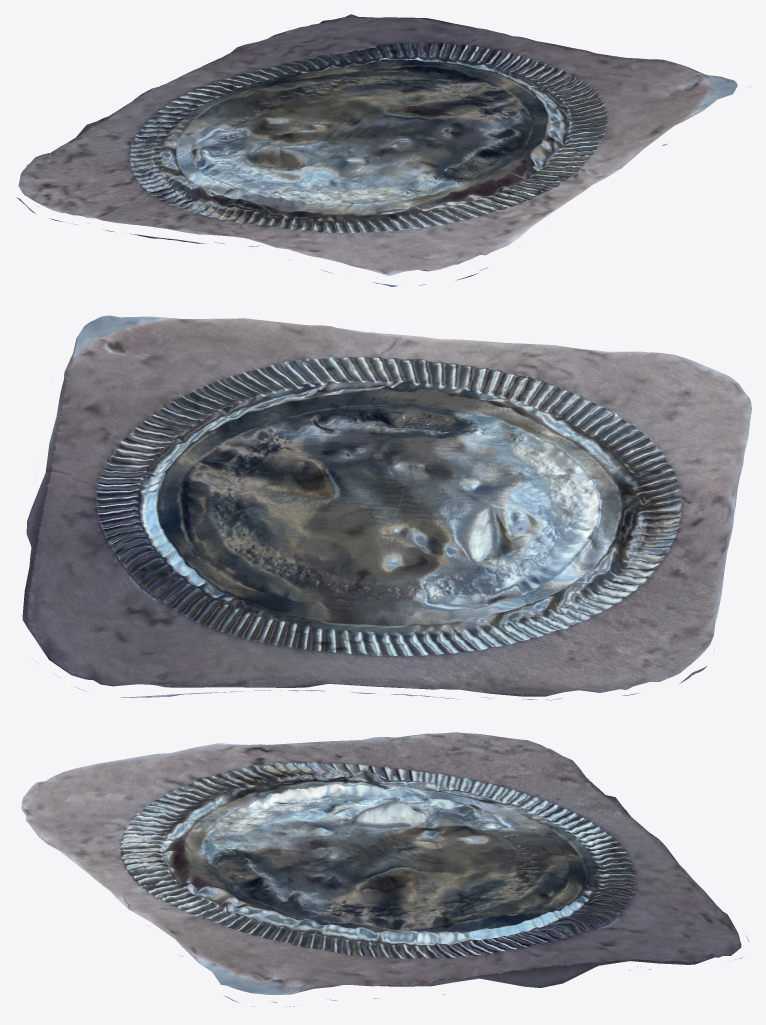
File: emla_plaster.glb
3 renders of one model, top to bottom at view 1: azimuth 30°, elevation 25°; view 2: azimuth 150°, elevation 25°; view 3: azimuth 270°, elevation 25°, orthographic. The views are drawn at different scales.
Visible parts, largest first — view 1: Mesh_0.003; view 2: Mesh_0.003; view 3: Mesh_0.003.
Part boxes in pixels (<box>): Mesh_0.003: <box>18,14,737,275</box>; Mesh_0.003: <box>22,315,751,696</box>; Mesh_0.003: <box>21,732,741,994</box>.
Size of the model in its own units: 0.7679 by 0.0919 by 0.7388.
2 materials, 2 textured.
